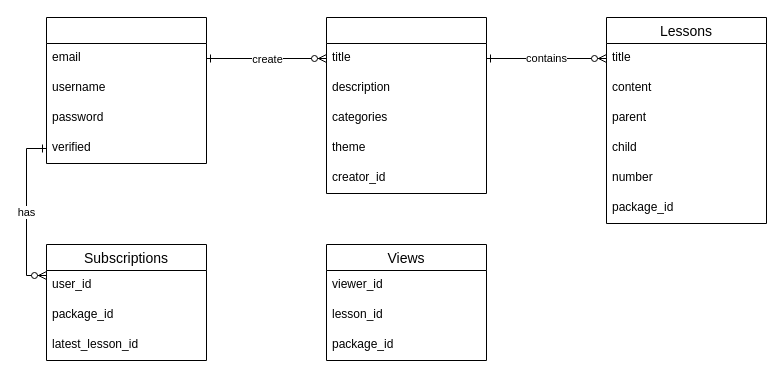
The diagram is 784 pixels wide and 381 high, and some of its shapes have lost their labels. Each missing label, with the box of its shape:
Packages: (326, 16, 486, 194)
Users: (46, 16, 206, 164)
